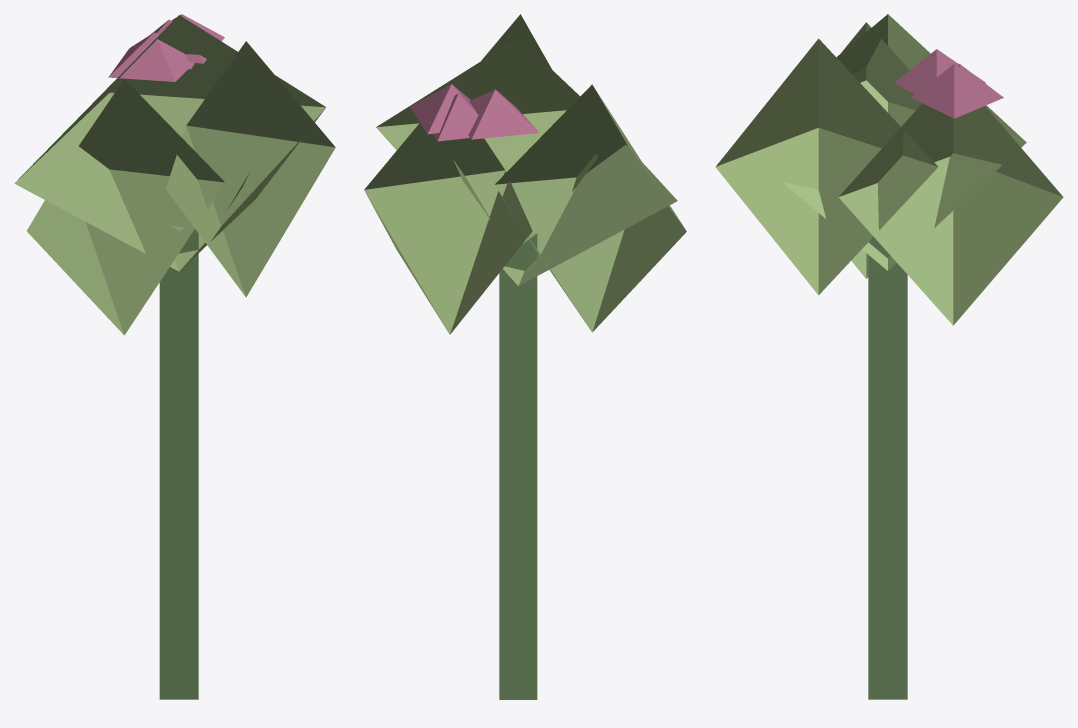
File: tree.sub.bamboo_grove__bloom.glb
The picture shows the model from 3 angles, left to right: view 1: azimuth 30°, elevation 25°; view 2: azimuth 150°, elevation 25°; view 3: azimuth 270°, elevation 25°; orthographic projection. The views are drawn at different scales.
Visible parts, largest first — view 1: tree.sub.bamboo_grove__bloom; view 2: tree.sub.bamboo_grove__bloom; view 3: tree.sub.bamboo_grove__bloom.
Part boxes in pixels (<box>): tree.sub.bamboo_grove__bloom: <box>14,14,335,699</box>; tree.sub.bamboo_grove__bloom: <box>364,14,686,699</box>; tree.sub.bamboo_grove__bloom: <box>715,14,1063,699</box>.
Size of the model in its own units: 5.06 by 10.68 by 4.88.
